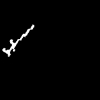double_crochet: (3, 25, 33, 55)
